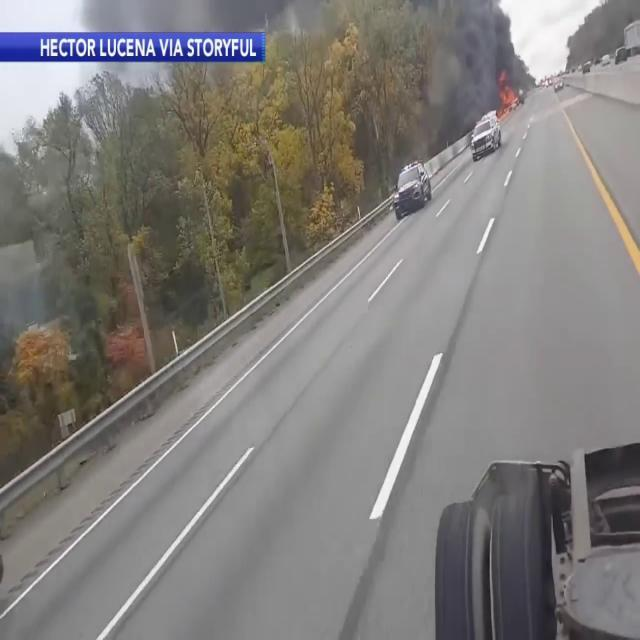Fire: (496, 70, 521, 121)
Smoke: (414, 2, 508, 144)
